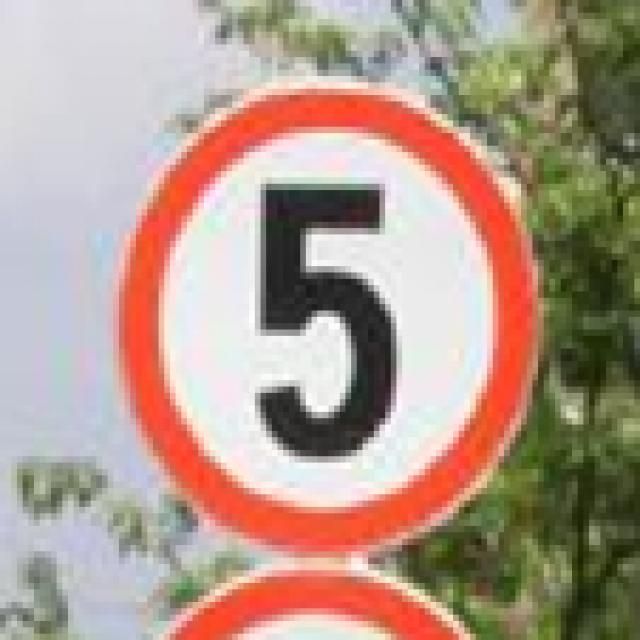Speed: (102, 61, 573, 564)
